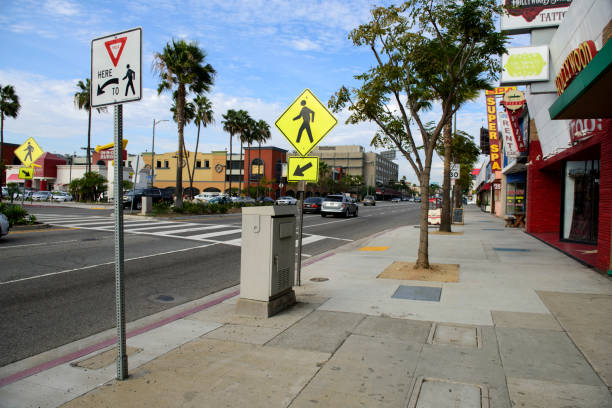car: (321, 196, 359, 218), (302, 197, 324, 214), (52, 190, 71, 202), (276, 195, 296, 206), (32, 190, 50, 201), (363, 193, 375, 207)
pedestrian: (279, 93, 333, 153), (16, 137, 43, 166)
